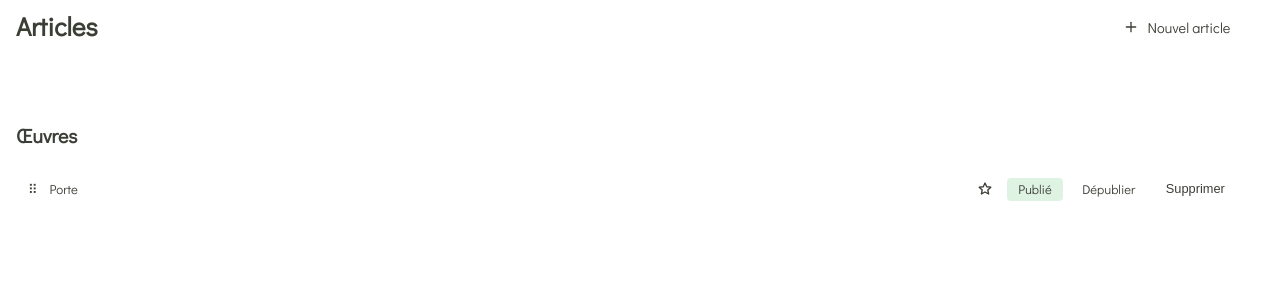
Scenario: ArticleList › clears a previous error banner once a later action succeeds
Expected: the link "Porte" is shown, [50,180,78,197]
Click the button "Dépublier": coordinates (1109, 189) [1071,178,1147,200]
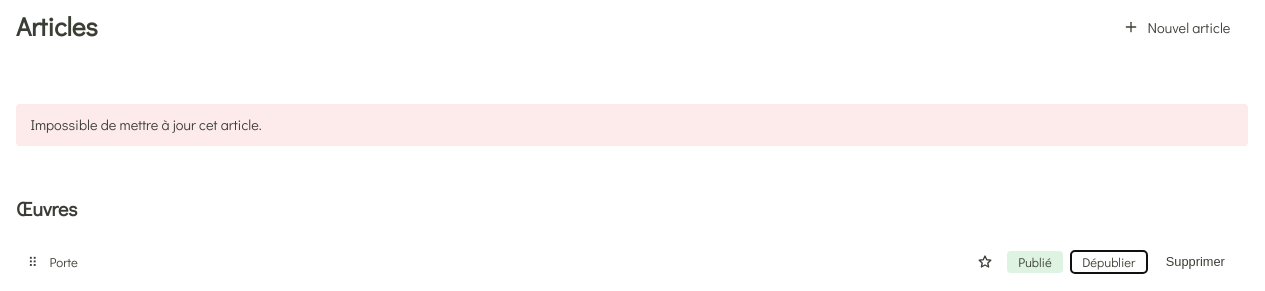
Expected: the message "Impossible de mettre à jour cet article." is shown, [16,104,1248,146]
Click the button "Dépublier": coordinates (1109, 262) [1071,251,1147,273]
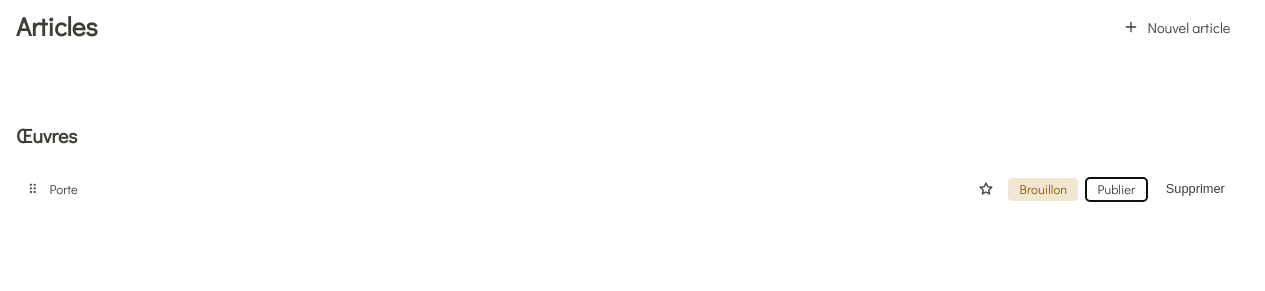
Expected: the text "Brouillon" is shown, [1008,178,1078,200]
Expected: the message "Impossible de mettre à jour cet article." is gone
